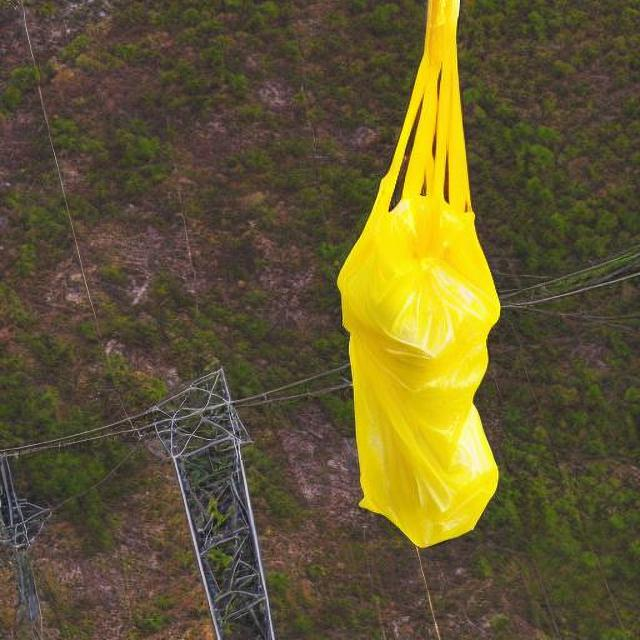plastic bag: (339, 0, 501, 567)
